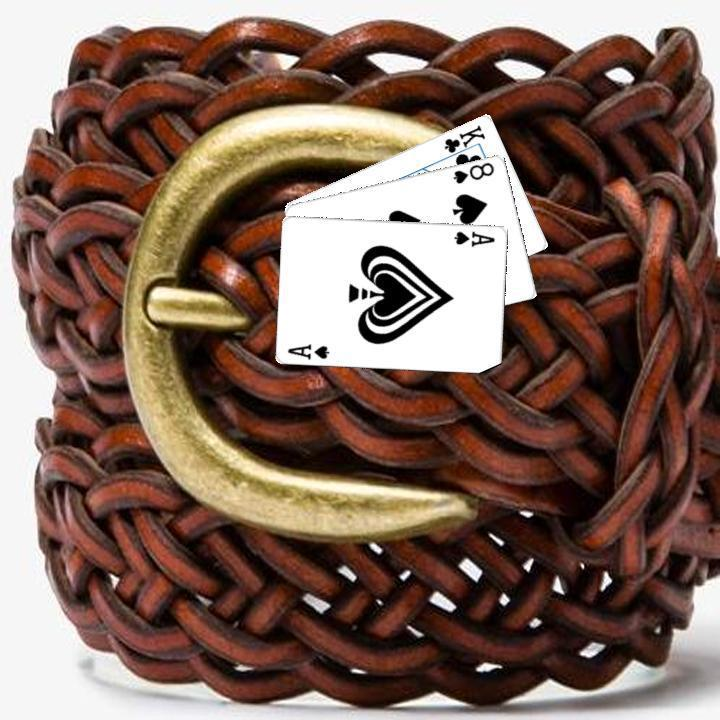8: (449, 158, 496, 185)
A: (283, 339, 332, 361), (450, 226, 497, 248)
K: (440, 120, 487, 162)
